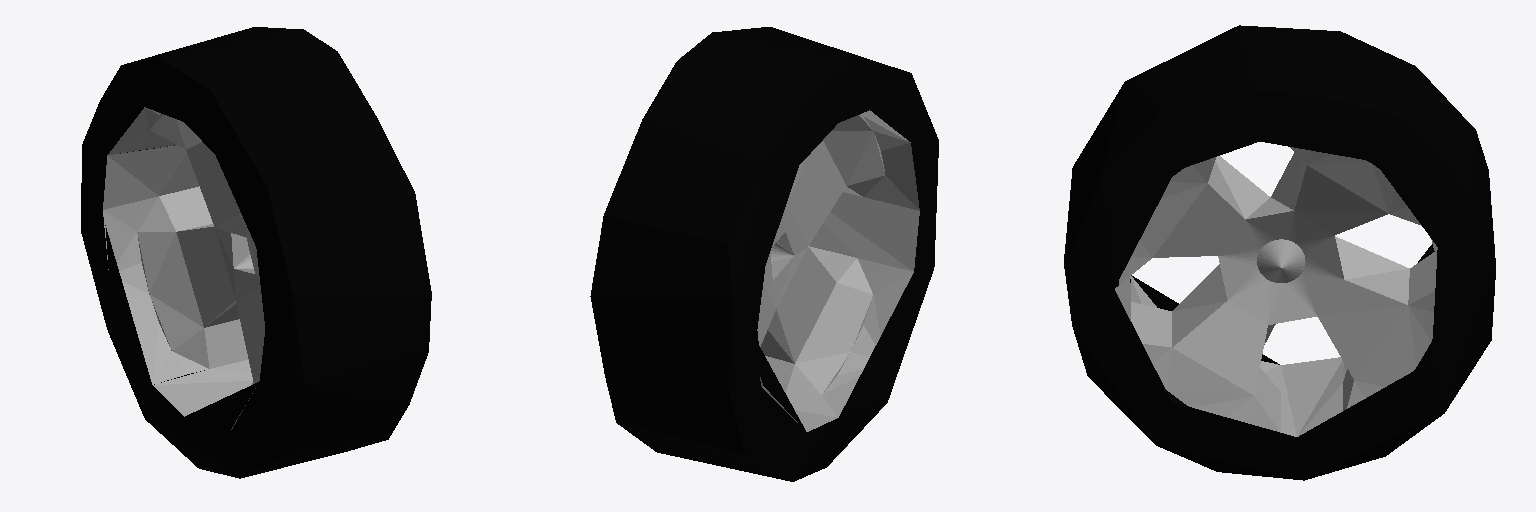
Rendered from spyder_wheel.obj.
The picture shows the model from 3 angles: view 1: azimuth 30°, elevation 25°; view 2: azimuth 150°, elevation 25°; view 3: azimuth 270°, elevation 25°; orthographic projection.
Parts seen in each view (by area): view 1: Circle.001; view 2: Circle.001; view 3: Circle.001.
Boxes of the visible parts, x1=… form: Circle.001: x1=81, y1=27, x2=431, y2=478; Circle.001: x1=590, y1=27, x2=938, y2=481; Circle.001: x1=1064, y1=25, x2=1495, y2=480.
Bounding box in the file's own units: 0.3022 × 0.7826 × 0.7745.